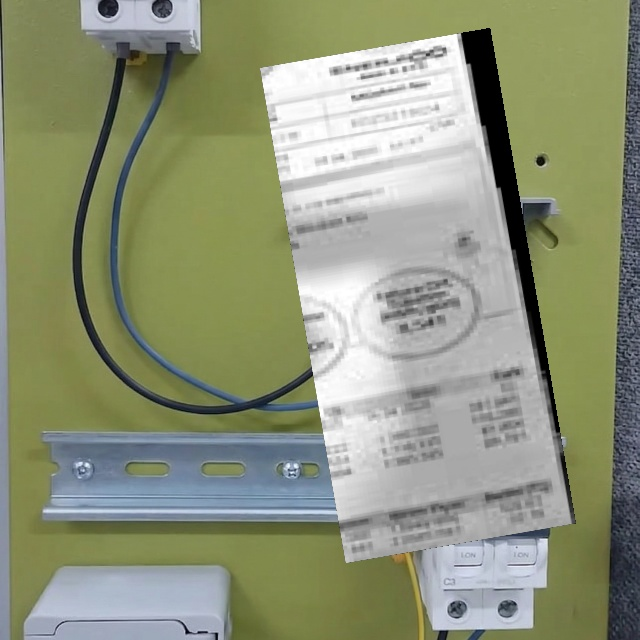electricity-bill: (260, 28, 576, 563)
